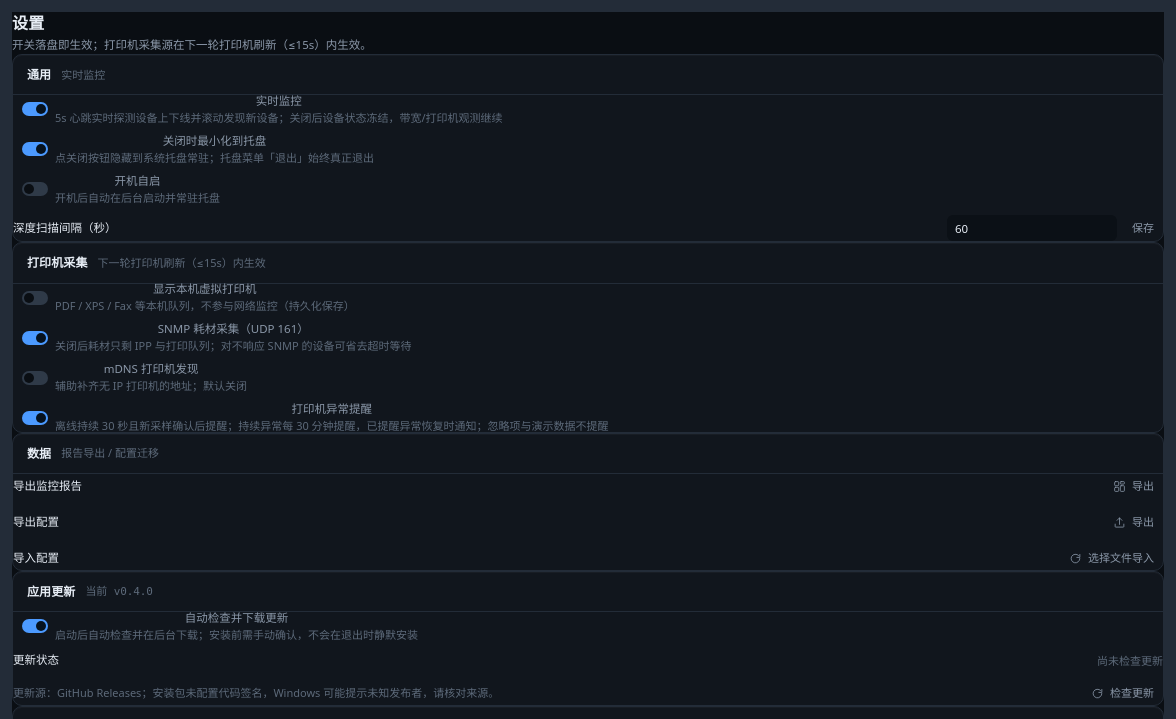
Test case: 更新卡片 › 手动检查的迟到响应不覆盖下载就绪
This screenshot has width=1176, height=719.
Click the button "检查更新". click: point(1122, 693)
box: [1082, 681, 1163, 705]
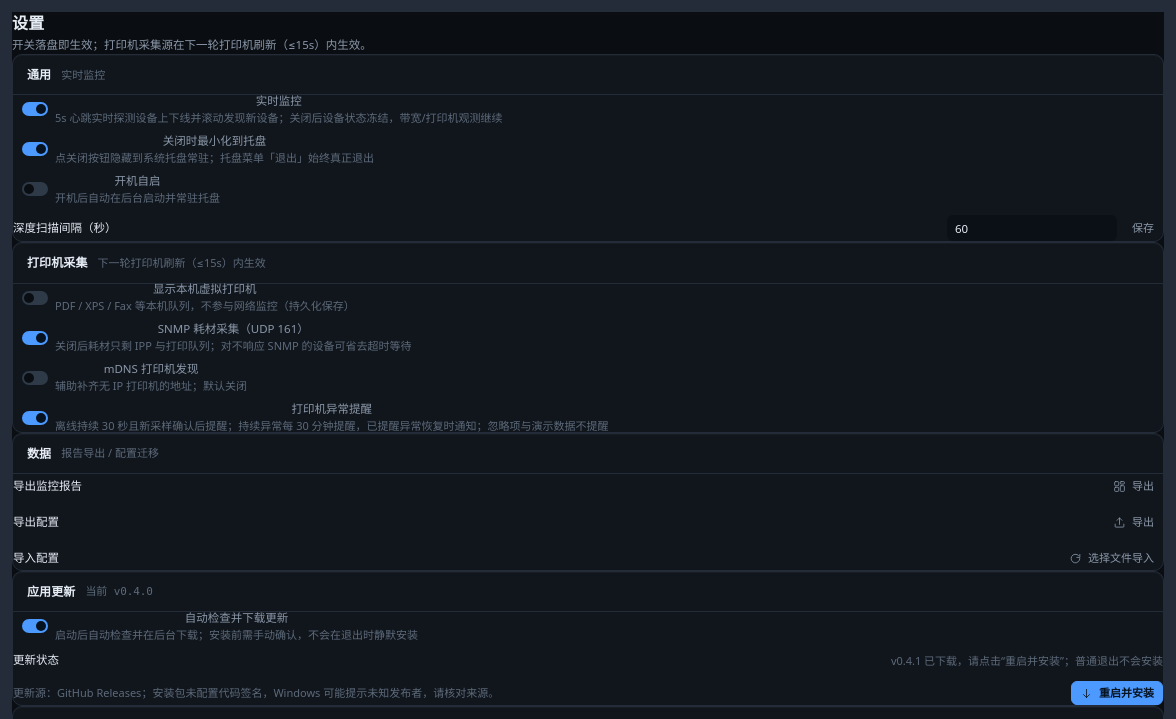
Result: the button "重启并安装" is shown at [1071, 681, 1163, 705]
